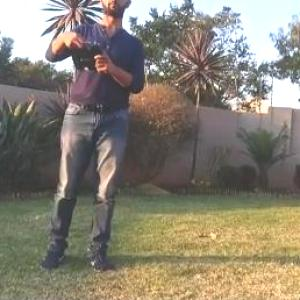follow: (30, 0, 149, 278)
